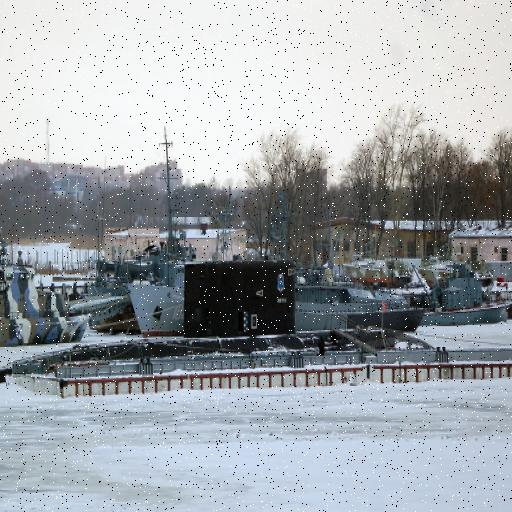submarine: (1, 262, 439, 395)
